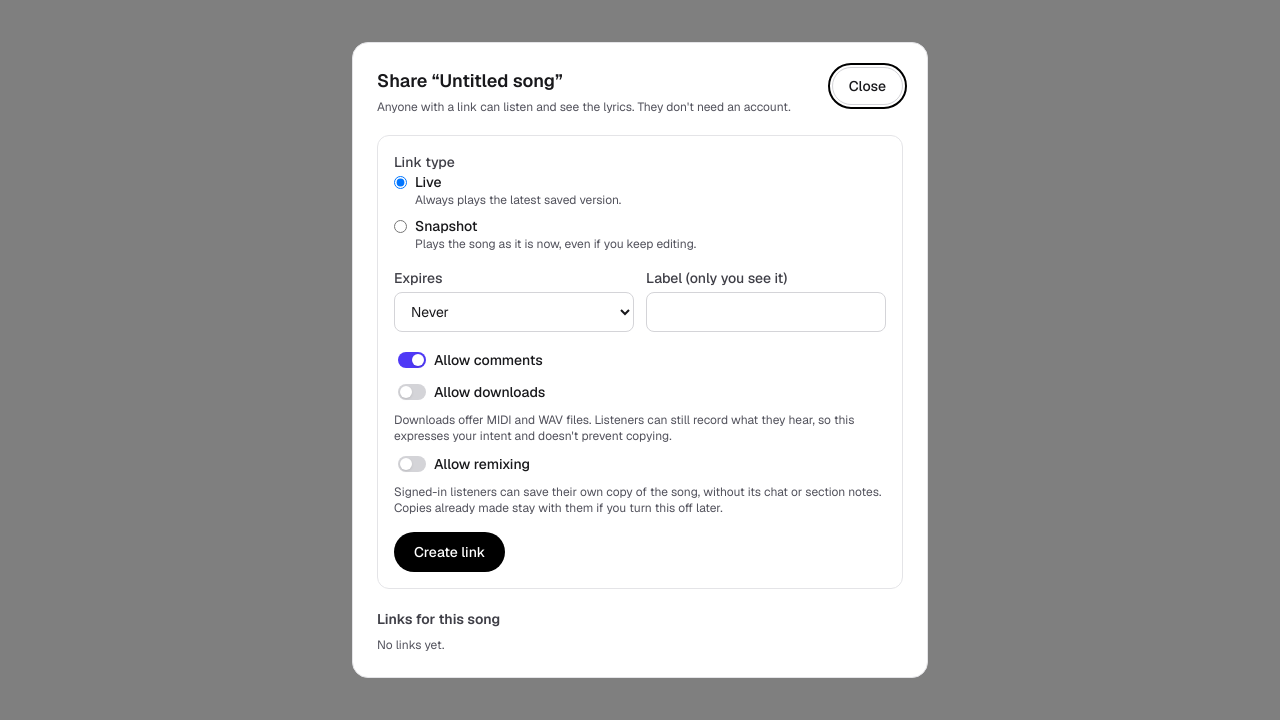
Test: Share dialog › shows the server's reason when a change fails
Expected: the text "No links yet." is shown, [377,637,444,653]
Click the button "Create link": x=450, y=552 [394,532,505,572]
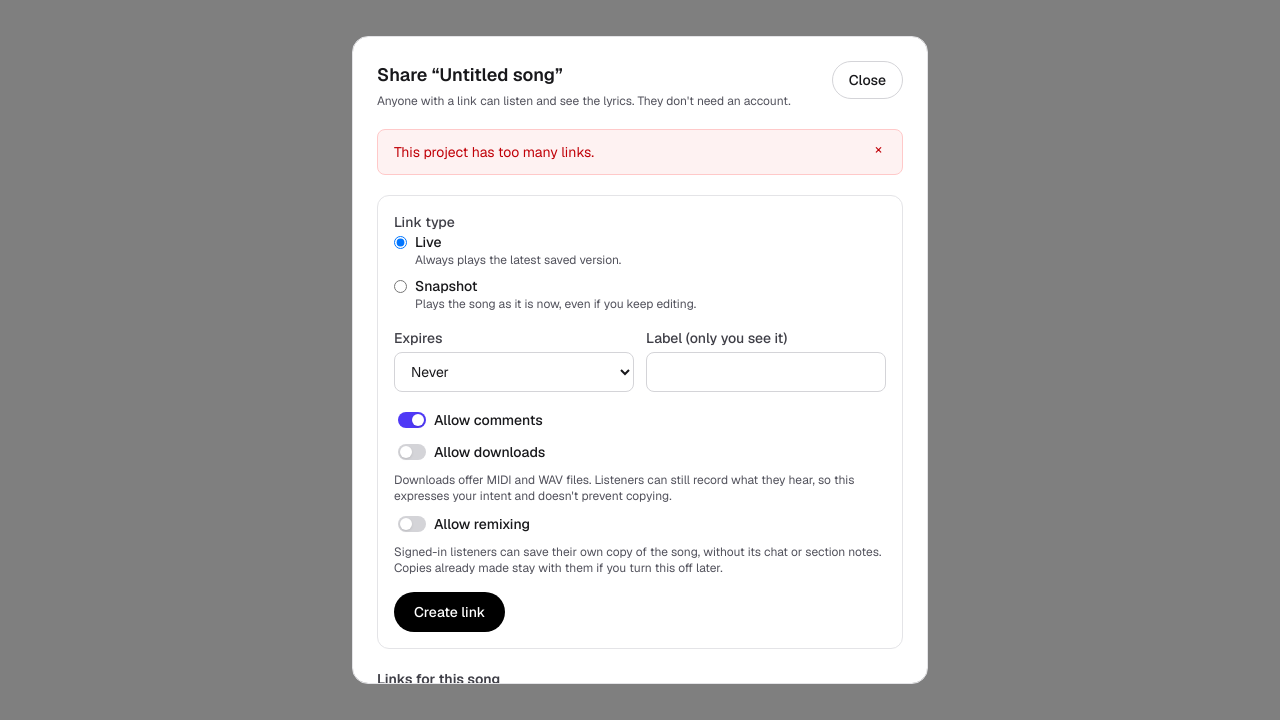
Now the message shows "This project has too many links.", box [394,143,594,161]
